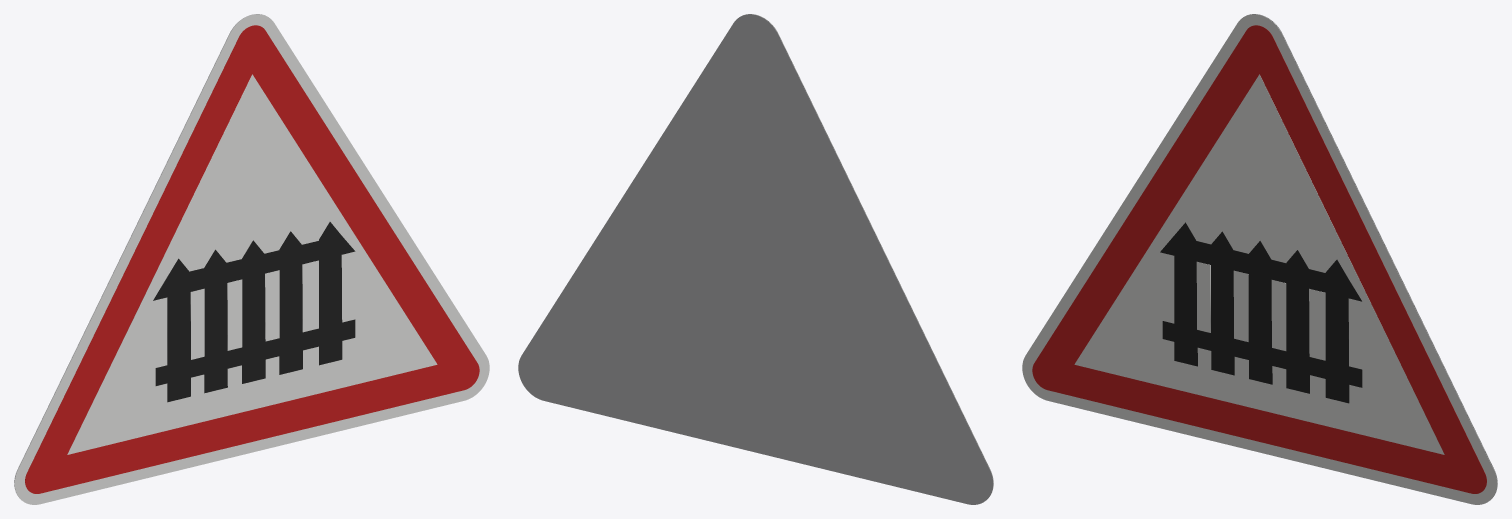
3 renders of one model, left to right at view 1: azimuth 30°, elevation 25°; view 2: azimuth 150°, elevation 25°; view 3: azimuth 330°, elevation 25°, orthographic.
Parts seen in each view (by area): view 1: A7_p01, A7_p02, A7_p03, A7_p00, A7_p04, A7_p06, A7_p05, A7_p07, A7_dos; view 2: A7_dos, A7_p00; view 3: A7_p01, A7_p02, A7_p03, A7_p00, A7_p04, A7_p05, A7_p06, A7_p07, A7_dos.
Boxes of the visible parts, x1,y1,x2,y2 form: A7_p01: [25, 25, 479, 493]; A7_p02: [67, 74, 437, 454]; A7_p03: [153, 222, 355, 402]; A7_p00: [14, 14, 489, 504]; A7_p04: [302, 260, 318, 332]; A7_p06: [227, 279, 242, 350]; A7_p05: [265, 270, 279, 341]; A7_p07: [190, 288, 204, 359]; A7_dos: [14, 14, 265, 500]; A7_dos: [518, 14, 993, 504]; A7_p00: [742, 14, 993, 500]; A7_p01: [1032, 25, 1486, 493]; A7_p02: [1074, 74, 1444, 454]; A7_p03: [1160, 222, 1362, 403]; A7_p00: [1022, 14, 1497, 504]; A7_p04: [1309, 288, 1325, 360]; A7_p05: [1271, 280, 1286, 350]; A7_p06: [1233, 270, 1248, 341]; A7_p07: [1196, 261, 1210, 332]; A7_dos: [1246, 14, 1497, 500].
Size of the model in its own units: 1 by 0.8803 by 0.0047.
